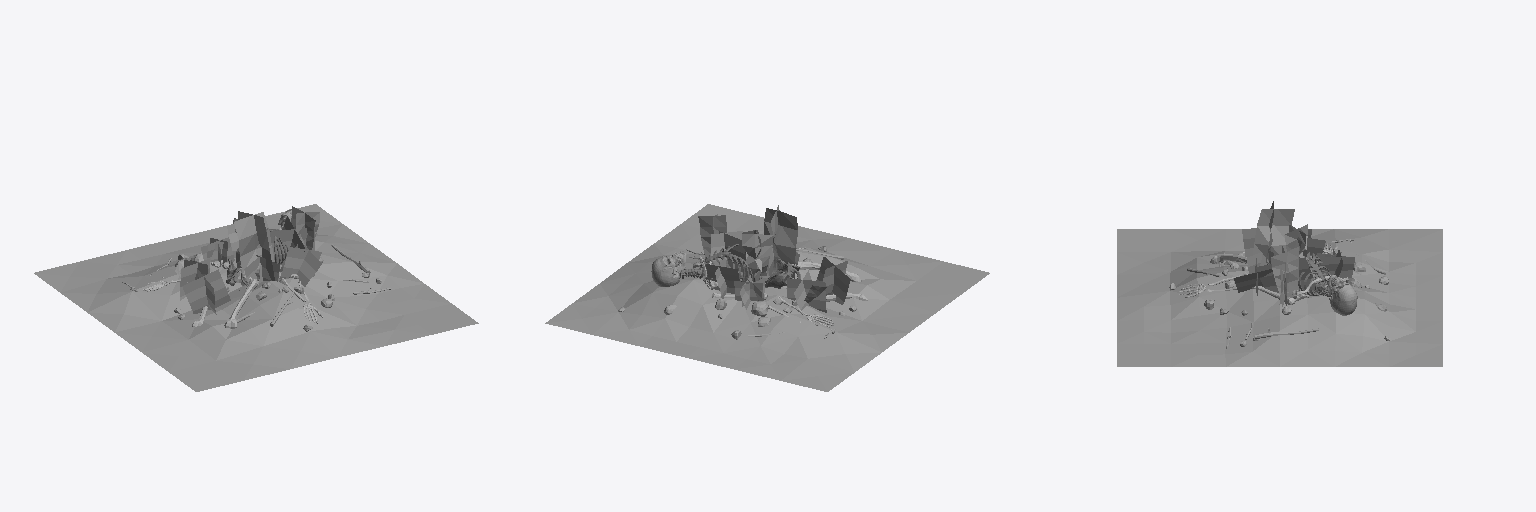
Rendered from skeleton2.obj.
The picture shows the model from 3 angles: view 1: azimuth 30°, elevation 25°; view 2: azimuth 150°, elevation 25°; view 3: azimuth 270°, elevation 25°; orthographic projection.
Visible parts, largest first — view 1: Plane_Plane.001, Plant2_Plane.014, Grass_Plane.002, nog_rece_low_poly:nog_rece_low_poly_group3, Grass.001_Plane.003, Grass.004_Plane.006, klata_low_poly:klata_low_poly_group2, Grass.003_Plane.005; view 2: Plane_Plane.001, Plant2_Plane.014, klata_low_poly:klata_low_poly_group2, nog_rece_low_poly:nog_rece_low_poly_group3, Grass_Plane.002, Plant1.004_Plane.013, czaszka_retopo:czaszka_retopo_group1, Grass.003_Plane.005, Grass.004_Plane.006, Grass.002_Plane.004, Plant1.002_Plane.011; view 3: Plane_Plane.001, Plant2_Plane.014, nog_rece_low_poly:nog_rece_low_poly_group3, Plant1.003_Plane.012, czaszka_retopo:czaszka_retopo_group1, Grass.004_Plane.006, Grass.002_Plane.004, klata_low_poly:klata_low_poly_group2.
Boxes of the visible parts, x1,y1,x2,y2 form: Plane_Plane.001: [34, 204, 478, 391]; Plant2_Plane.014: [234, 211, 274, 288]; Grass_Plane.002: [182, 269, 230, 314]; nog_rece_low_poly:nog_rece_low_poly_group3: [143, 260, 322, 328]; Grass.001_Plane.003: [279, 244, 321, 286]; Grass.004_Plane.006: [270, 216, 314, 264]; klata_low_poly:klata_low_poly_group2: [226, 229, 288, 290]; Grass.003_Plane.005: [180, 259, 209, 300]; Plane_Plane.001: [545, 204, 989, 391]; Plant2_Plane.014: [764, 205, 797, 278]; klata_low_poly:klata_low_poly_group2: [679, 244, 800, 288]; nog_rece_low_poly:nog_rece_low_poly_group3: [699, 248, 867, 327]; Grass_Plane.002: [816, 257, 850, 304]; Plant1.004_Plane.013: [742, 234, 773, 277]; czaszka_retopo:czaszka_retopo_group1: [651, 253, 685, 286]; Grass.003_Plane.005: [787, 270, 826, 312]; Grass.004_Plane.006: [711, 231, 745, 271]; Grass.002_Plane.004: [706, 257, 739, 298]; Plant1.002_Plane.011: [698, 215, 726, 258]; Plane_Plane.001: [1117, 229, 1442, 366]; Plant2_Plane.014: [1253, 201, 1294, 265]; nog_rece_low_poly:nog_rece_low_poly_group3: [1179, 243, 1348, 304]; Plant1.003_Plane.012: [1271, 247, 1298, 304]; czaszka_retopo:czaszka_retopo_group1: [1327, 275, 1357, 315]; Grass.004_Plane.006: [1256, 257, 1315, 306]; Grass.002_Plane.004: [1318, 250, 1354, 284]; klata_low_poly:klata_low_poly_group2: [1267, 253, 1333, 296].
Bounding box in the file's own units: 8.08 × 2.5 × 8.08.